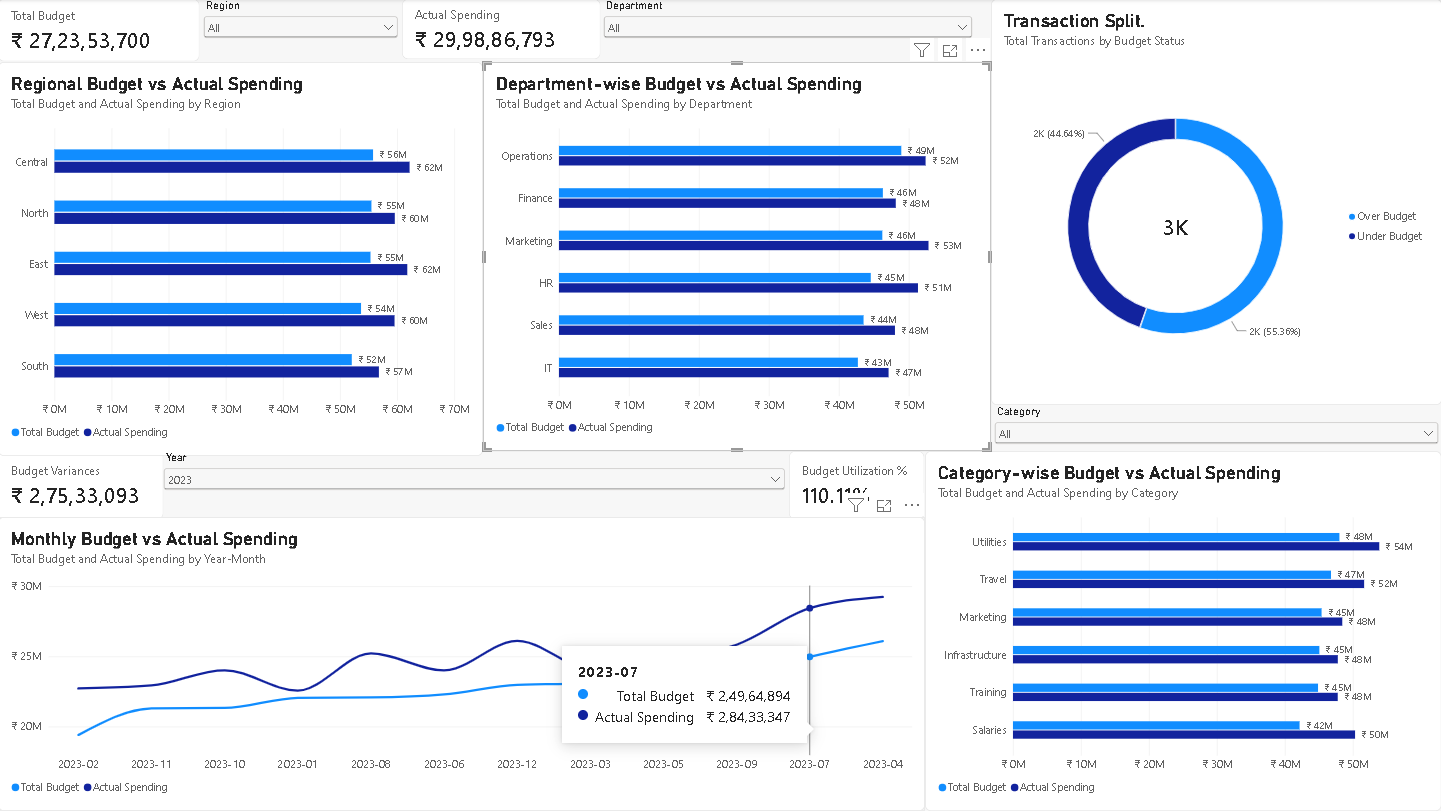

The dashboard page shown, as its layout file describes it:
{"tool":"powerbi","page":{"name":"Financial Overview","canvas":[1920,1080],"ordinal":0},"visuals":[{"type":"cardVisual","fields":{"Data":["Project_4_Cleaned_Data.Total Budget"]},"box":[0,0,268.4,83.2],"z":0},{"type":"cardVisual","fields":{"Data":["Project_4_Cleaned_Data.Actual Spending"]},"box":[536.9,0,264.1,80.2],"z":1000},{"type":"cardVisual","fields":{"Data":["Project_4_Cleaned_Data.Budget Variances"]},"box":[0,601.1,220.3,91.9],"z":2000},{"type":"cardVisual","fields":{"Data":["Project_4_Cleaned_Data.Budget Utilization %"]},"box":[1051.9,601.1,180.9,91.9],"z":3000},{"type":"clusteredBarChart","title":"Department-wise Budget vs Actual Spending","fields":{"Category":["Project_4_Cleaned_Data.Department"],"Y":["Project_4_Cleaned_Data.Total Budget","Project_4_Cleaned_Data.Actual Spending"]},"box":[644.9,83.2,675.5,517.9],"z":8000},{"type":"clusteredBarChart","title":"Category-wise Budget vs Actual Spending","fields":{"Category":["Project_4_Cleaned_Data.Category"],"Y":["Project_4_Cleaned_Data.Total Budget","Project_4_Cleaned_Data.Actual Spending"]},"box":[1232.8,601.1,687.2,478.5],"z":9000},{"type":"clusteredBarChart","title":"Regional Budget vs Actual Spending","fields":{"Category":["Project_4_Cleaned_Data.Region"],"Y":["Project_4_Cleaned_Data.Total Budget","Project_4_Cleaned_Data.Actual Spending"]},"box":[0,83.2,644.9,523.8],"z":10000},{"type":"lineChart","title":"Monthly Budget vs Actual Spending","fields":{"Category":["Date Table.Year-Month"],"Y":["Project_4_Cleaned_Data.Total Budget","Project_4_Cleaned_Data.Actual Spending"]},"box":[0,688.6,1232.8,391],"z":11000},{"type":"slicer","fields":{"Values":["Date Table.Year"]},"box":[215.9,601.1,836,91.9],"z":11001},{"type":"slicer","fields":{"Values":["Project_4_Cleaned_Data.Department"]},"box":[801,0,500.4,83.2],"z":11002},{"type":"slicer","fields":{"Values":["Project_4_Cleaned_Data.Category"]},"box":[1320.4,539.8,599.6,61.3],"z":11003},{"type":"slicer","fields":{"Values":["Project_4_Cleaned_Data.Region"]},"box":[268.4,0,268.4,80.2],"z":11004},{"type":"donutChart","title":"Transaction Split.","fields":{"Category":["Project_4_Cleaned_Data.Budget Status"],"Y":["Project_4_Cleaned_Data.Total Transactions"]},"box":[1320.4,0,599.6,539.8],"z":11005}]}

Visuals, with their boxes in screenshot pixels (x1, y1, x2, y2), scaled from the page's 1920x1080 canvas onto the 1441x811 screenshot:
cardVisual - Project_4_Cleaned_Data.Total Budget: pyautogui.locateOnScreen(0, 0, 201, 62)
cardVisual - Project_4_Cleaned_Data.Actual Spending: pyautogui.locateOnScreen(403, 0, 601, 60)
cardVisual - Project_4_Cleaned_Data.Budget Variances: pyautogui.locateOnScreen(0, 451, 165, 520)
cardVisual - Project_4_Cleaned_Data.Budget Utilization %: pyautogui.locateOnScreen(789, 451, 925, 520)
"Department-wise Budget vs Actual Spending" clusteredBarChart: pyautogui.locateOnScreen(484, 62, 991, 451)
"Category-wise Budget vs Actual Spending" clusteredBarChart: pyautogui.locateOnScreen(925, 451, 1440, 810)
"Regional Budget vs Actual Spending" clusteredBarChart: pyautogui.locateOnScreen(0, 62, 484, 456)
"Monthly Budget vs Actual Spending" lineChart: pyautogui.locateOnScreen(0, 517, 925, 810)
slicer - Date Table.Year: pyautogui.locateOnScreen(162, 451, 789, 520)
slicer - Project_4_Cleaned_Data.Department: pyautogui.locateOnScreen(601, 0, 977, 62)
slicer - Project_4_Cleaned_Data.Category: pyautogui.locateOnScreen(991, 405, 1440, 451)
slicer - Project_4_Cleaned_Data.Region: pyautogui.locateOnScreen(201, 0, 403, 60)
"Transaction Split." donutChart: pyautogui.locateOnScreen(991, 0, 1440, 405)
